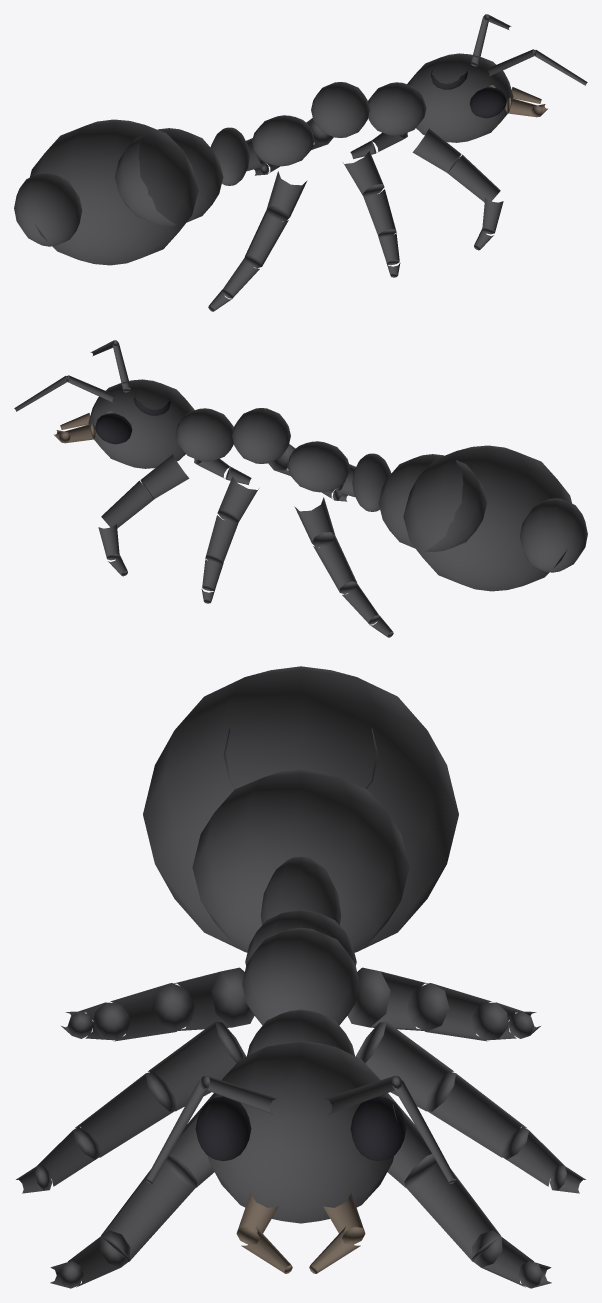
Rendered from worker_black.glb.
3 renders of one model, top to bottom at view 1: azimuth 30°, elevation 25°; view 2: azimuth 150°, elevation 25°; view 3: azimuth 270°, elevation 25°, orthographic. The views are drawn at different scales.
Parts seen in each view (by area): view 1: GasterRear, HeadShell, GasterFront, GasterTip, MesothoraxShell, MetathoraxShell, ProthoraxShell, PetioleShell, FemurL3, FemurL1, CoxaL1, CoxaL3 (+8 smaller); view 2: GasterRear, HeadShell, GasterFront, GasterTip, MesothoraxShell, MetathoraxShell, ProthoraxShell, PetioleShell, FemurR3, FemurR1, CoxaR1, CoxaR3 (+8 smaller); view 3: GasterRear, GasterFront, HeadShell, MesothoraxShell, FemurL2, FemurR2, CoxaL2, CoxaR2, FemurL1, FemurR1, PetioleShell, CoxaL3 (+23 smaller).
Part boxes in pixels (<box>): GasterRear: <box>29,119,198,265</box>; HeadShell: <box>407,53,513,142</box>; GasterFront: <box>115,128,223,225</box>; GasterTip: <box>14,172,82,246</box>; MesothoraxShell: <box>311,82,369,137</box>; MetathoraxShell: <box>252,115,314,166</box>; ProthoraxShell: <box>368,82,426,135</box>; PetioleShell: <box>210,127,249,185</box>; FemurL3: <box>244,208,288,268</box>; FemurL1: <box>447,154,500,204</box>; CoxaL1: <box>412,128,461,172</box>; CoxaL3: <box>267,171,307,221</box>; GasterRear: <box>403,445,572,591</box>; HeadShell: <box>88,379,194,468</box>; GasterFront: <box>378,454,486,551</box>; GasterTip: <box>519,498,587,572</box>; MesothoraxShell: <box>232,408,290,463</box>; MetathoraxShell: <box>287,441,349,492</box>; ProthoraxShell: <box>175,408,233,461</box>; PetioleShell: <box>352,453,391,511</box>; FemurR3: <box>313,534,357,594</box>; FemurR1: <box>101,480,154,530</box>; CoxaR1: <box>140,454,189,498</box>; CoxaR3: <box>294,497,334,547</box>; GasterRear: <box>143,666,458,952</box>; GasterFront: <box>192,769,409,950</box>; HeadShell: <box>204,1041,397,1223</box>; MesothoraxShell: <box>242,927,359,1025</box>; FemurL2: <box>75,1072,176,1157</box>; FemurR2: <box>425,1072,526,1157</box>; CoxaL2: <box>148,1021,246,1111</box>; CoxaR2: <box>355,1021,453,1111</box>; FemurL1: <box>101,1162,195,1261</box>; FemurR1: <box>406,1162,500,1261</box>; PetioleShell: <box>260,856,341,925</box>; CoxaL3: <box>166,967,254,1031</box>.
Size of the model in its own units: 1 by 0.2722 by 0.4693.
